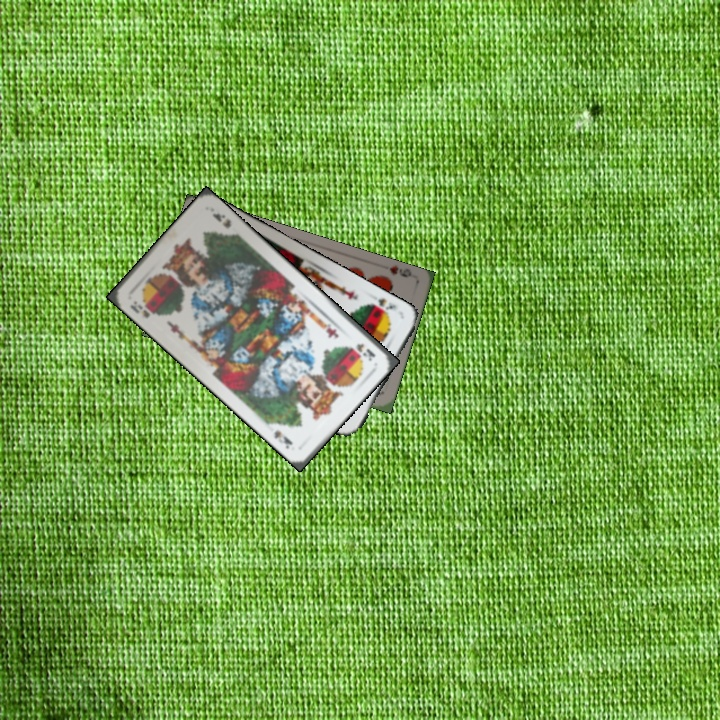H9: (385, 262, 414, 280)
SK: (126, 297, 162, 321), (365, 294, 399, 319), (352, 339, 378, 364)
